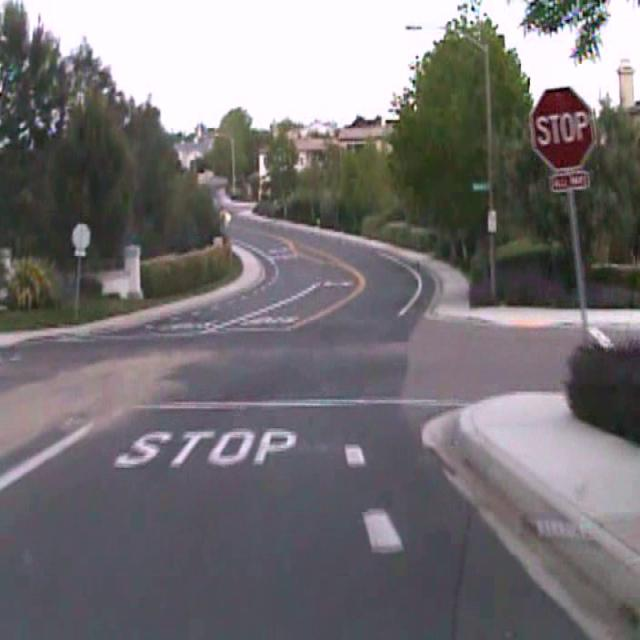stop: (529, 84, 596, 172)
